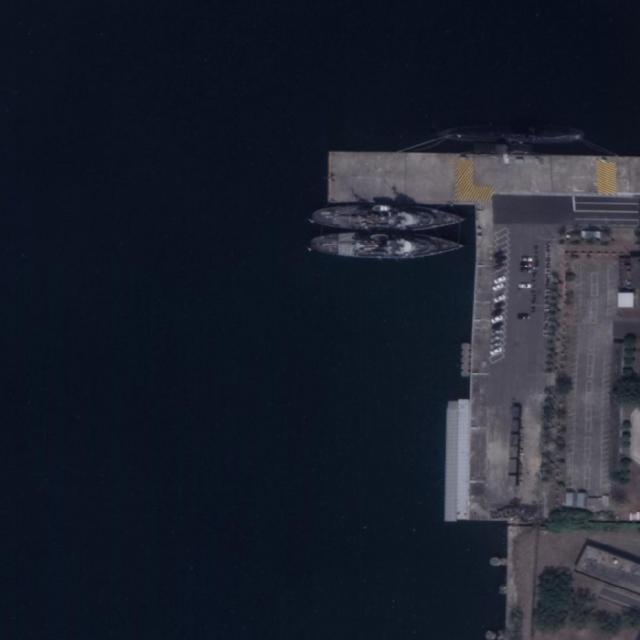Other Warship: (309, 233, 467, 264), (308, 202, 467, 232)
Submarine: (439, 129, 583, 144)
